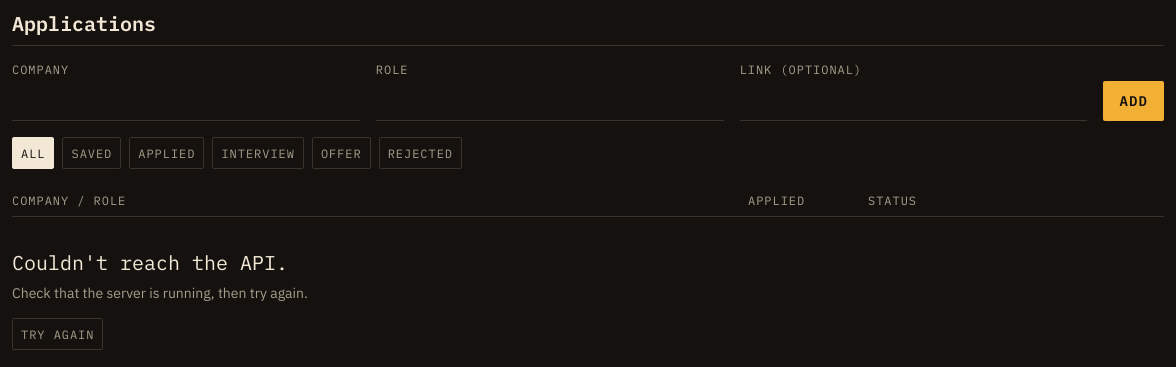
Test case: ApplicationsList › shows an error state and retries
Expected: the text "Couldn't reach the API." is shown, [12, 249, 288, 276]
Click the button "Try again" at [58, 334], box [12, 318, 104, 350]
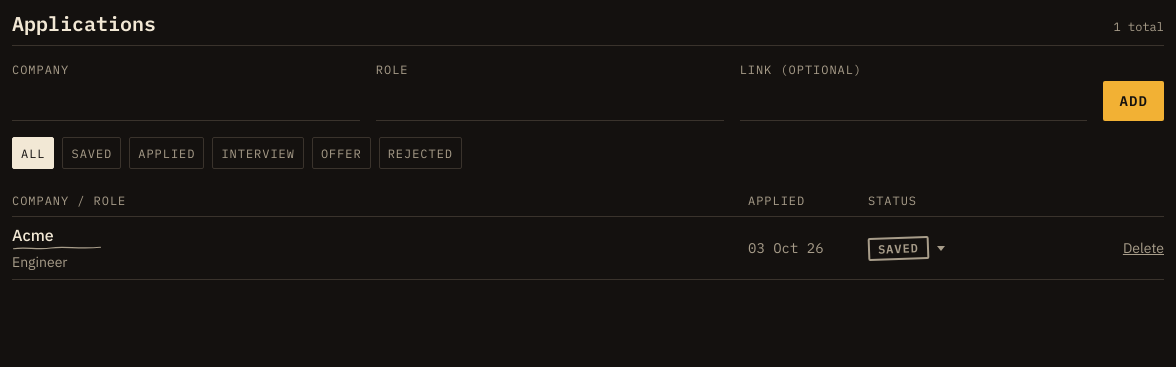
Now the link "Acme" is shown, box [12, 225, 54, 245]
